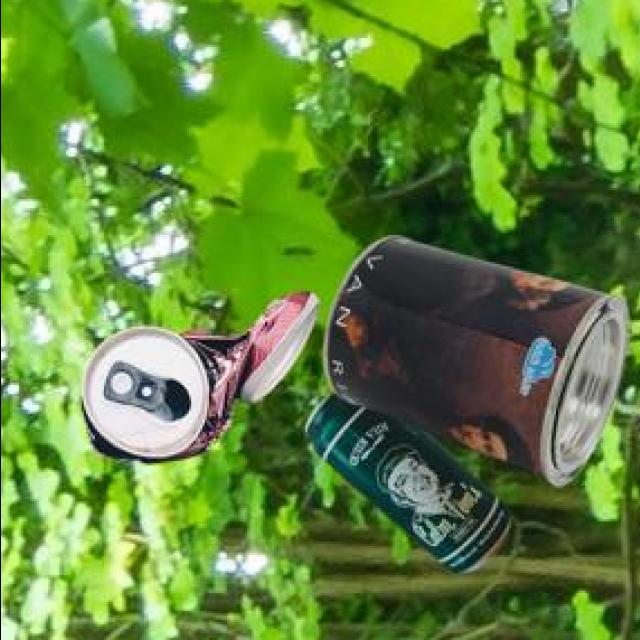logam: (321, 241, 623, 489), (77, 297, 314, 467), (301, 393, 507, 576)
